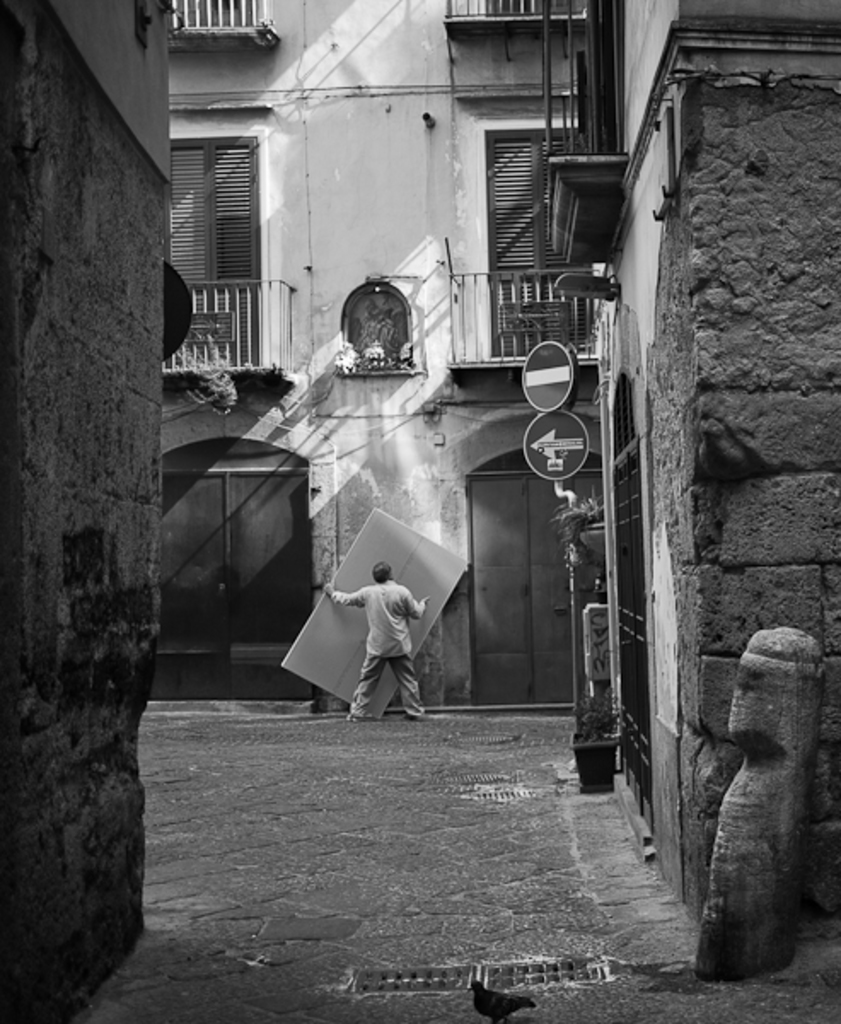Door: (154, 473, 309, 637)
